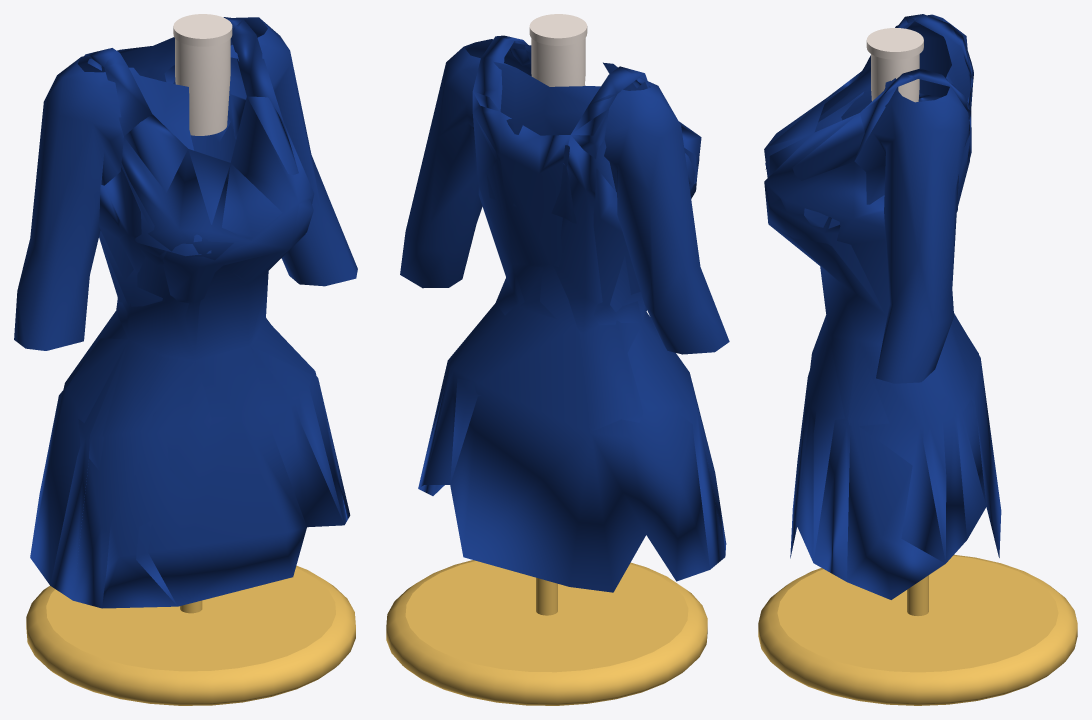
Rendered from rain.dress.midnight-cocktail.lod1.glb.
The picture shows the model from 3 angles, left to right: view 1: azimuth 30°, elevation 25°; view 2: azimuth 150°, elevation 25°; view 3: azimuth 270°, elevation 25°; orthographic projection. The views are drawn at different scales.
Visible parts, largest first — view 1: Tailored.Dress.midnight-cocktail.Fabric, Tailored.Dress.midnight-cocktail.Bolero, stand_base, stand_torso, stand_neck_cap; view 2: Tailored.Dress.midnight-cocktail.Fabric, Tailored.Dress.midnight-cocktail.Bolero, stand_base, stand_torso, stand_neck_cap, stand_stem; view 3: Tailored.Dress.midnight-cocktail.Fabric, stand_base, Tailored.Dress.midnight-cocktail.Bolero, stand_neck_cap, stand_torso, stand_stem.
Part boxes in pixels (x1=…): Tailored.Dress.midnight-cocktail.Fabric: x1=30, y1=17, x2=350, y2=608; Tailored.Dress.midnight-cocktail.Bolero: x1=14, y1=17, x2=357, y2=350; stand_base: x1=26, y1=565, x2=355, y2=705; stand_torso: x1=175, y1=39, x2=230, y2=135; stand_neck_cap: x1=173, y1=14, x2=232, y2=46; Tailored.Dress.midnight-cocktail.Fabric: x1=418, y1=35, x2=726, y2=592; Tailored.Dress.midnight-cocktail.Bolero: x1=400, y1=39, x2=729, y2=354; stand_base: x1=386, y1=560, x2=707, y2=705; stand_torso: x1=531, y1=38, x2=585, y2=86; stand_neck_cap: x1=529, y1=14, x2=587, y2=45; stand_stem: x1=536, y1=577, x2=557, y2=615; Tailored.Dress.midnight-cocktail.Fabric: x1=764, y1=14, x2=1001, y2=599; stand_base: x1=758, y1=554, x2=1077, y2=705; Tailored.Dress.midnight-cocktail.Bolero: x1=765, y1=14, x2=971, y2=383; stand_neck_cap: x1=866, y1=28, x2=923, y2=59; stand_torso: x1=871, y1=54, x2=919, y2=102; stand_stem: x1=907, y1=575, x2=928, y2=615.
Size of the model in its own units: 0.4155 by 0.75 by 0.3589.
